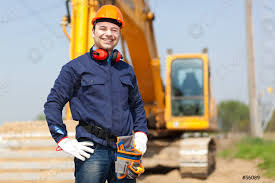casque: (67, 3, 142, 183)
